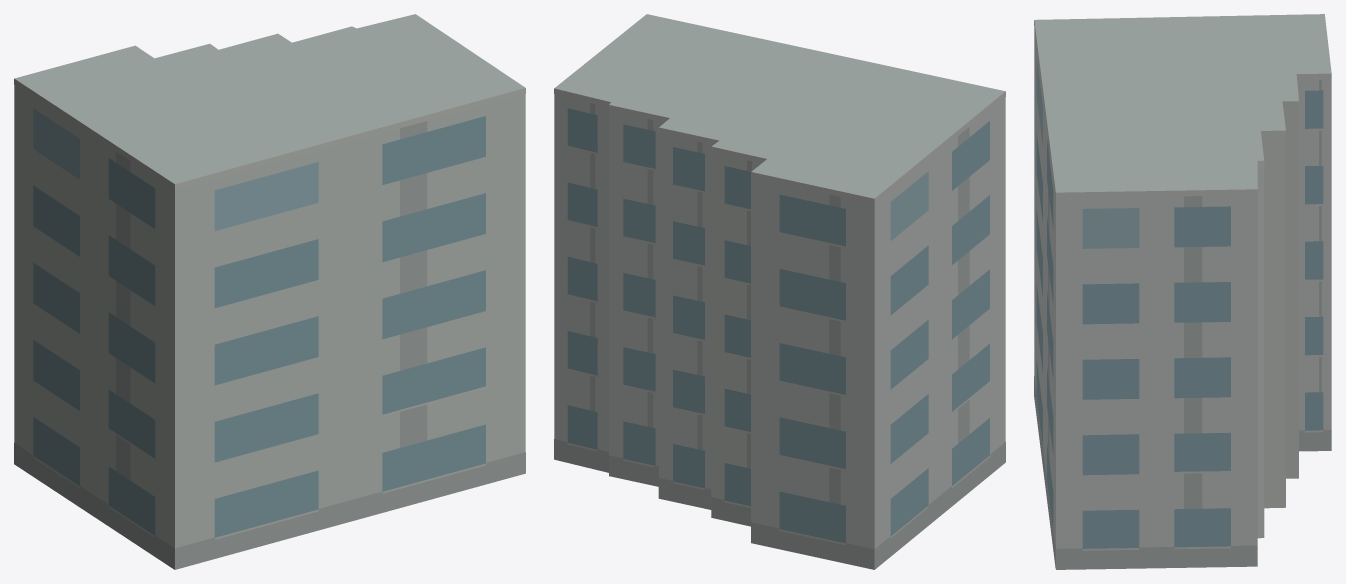
File: survey-upis-32706490.glb
3 views of the same model, side by side, from view 1: azimuth 30°, elevation 25°; view 2: azimuth 150°, elevation 25°; view 3: azimuth 270°, elevation 25° (orthographic). The views are drawn at different scales.
Visible parts, largest first — view 1: survey-upis-32706490.tmp; view 2: survey-upis-32706490.tmp; view 3: survey-upis-32706490.tmp.
Part boxes in pixels (<box>): survey-upis-32706490.tmp: <box>14,14,525,569</box>; survey-upis-32706490.tmp: <box>554,14,1005,569</box>; survey-upis-32706490.tmp: <box>1034,14,1331,569</box>.
Size of the model in its own units: 15.95 by 15.7 by 11.23.
